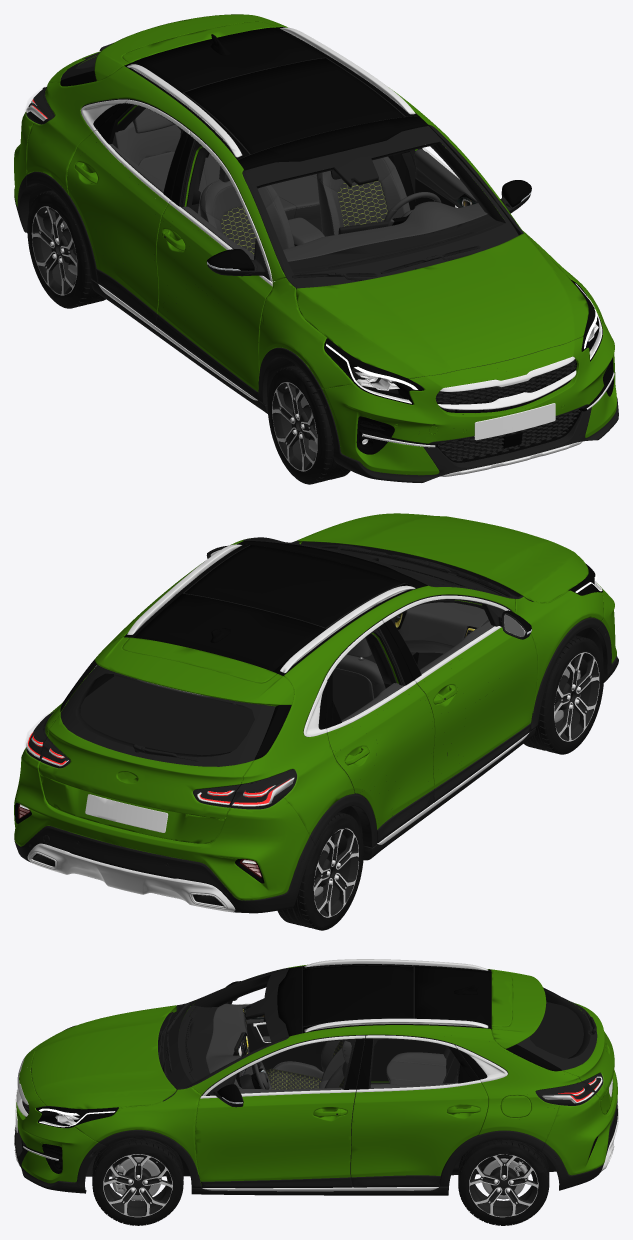
File: suv.glb
The picture shows the model from 3 angles, top to bottom: view 1: azimuth 30°, elevation 25°; view 2: azimuth 150°, elevation 25°; view 3: azimuth 270°, elevation 25°; orthographic projection. The views are drawn at different scales.
Visible parts, largest first — view 1: body, carPaint_doors.022, carPaint_doors.005, carPaint_doors.015, carPaint_doors.020, carPaint_doors.017, carPaint_doors.011, carPaint_doors.036, wheel.Ft.R, carPaint_doors, wheel.Bk.R, carPaint_doors.016 (+8 smaller); view 2: body, carPaint_doors.022, carPaint_doors.005, carPaint_doors.014, carPaint_doors.017, carPaint_doors.015, carPaint_doors.011, carPaint_doors.020, wheel.Ft.R, wheel.Bk.R, carPaint_doors.051, carPaint_doors.008 (+5 smaller); view 3: body, carPaint_doors.005, carPaint_doors.022, carPaint_doors.015, carPaint_doors.017, carPaint_doors.011, carPaint_doors.020, carPaint_doors.014, carPaint_doors.016, wheel.Ft.L, wheel.Bk.L, carPaint_doors.047 (+7 smaller).
Boxes of the visible parts, bbox=[...] form: body: bbox=[14, 14, 616, 475]; carPaint_doors.022: bbox=[124, 27, 531, 270]; carPaint_doors.005: bbox=[14, 43, 618, 482]; carPaint_doors.015: bbox=[107, 108, 487, 299]; carPaint_doors.020: bbox=[29, 55, 576, 459]; carPaint_doors.017: bbox=[80, 27, 582, 476]; carPaint_doors.011: bbox=[26, 70, 613, 462]; carPaint_doors.036: bbox=[435, 359, 580, 461]; wheel.Ft.R: bbox=[267, 365, 350, 484]; carPaint_doors: bbox=[220, 181, 387, 254]; wheel.Bk.R: bbox=[27, 190, 105, 308]; carPaint_doors.016: bbox=[96, 104, 471, 342]; body: bbox=[14, 513, 616, 900]; carPaint_doors.022: bbox=[123, 540, 531, 675]; carPaint_doors.005: bbox=[14, 537, 618, 913]; carPaint_doors.014: bbox=[75, 540, 391, 757]; carPaint_doors.017: bbox=[27, 544, 528, 912]; carPaint_doors.015: bbox=[114, 602, 493, 722]; carPaint_doors.011: bbox=[15, 563, 602, 883]; carPaint_doors.020: bbox=[60, 540, 603, 836]; wheel.Ft.R: bbox=[523, 635, 603, 754]; wheel.Bk.R: bbox=[277, 812, 363, 930]; carPaint_doors.051: bbox=[314, 829, 358, 916]; carPaint_doors.008: bbox=[554, 652, 599, 740]; body: bbox=[16, 964, 617, 1185]; carPaint_doors.005: bbox=[15, 965, 617, 1195]; carPaint_doors.022: bbox=[217, 964, 491, 1102]; carPaint_doors.015: bbox=[206, 1004, 460, 1093]; carPaint_doors.017: bbox=[14, 959, 618, 1191]; carPaint_doors.011: bbox=[21, 987, 603, 1173]; carPaint_doors.020: bbox=[42, 969, 597, 1176]; carPaint_doors.014: bbox=[191, 975, 590, 1058]; carPaint_doors.016: bbox=[237, 1015, 460, 1180]; wheel.Ft.L: bbox=[92, 1137, 183, 1225]; wheel.Bk.L: bbox=[458, 1139, 549, 1225]; carPaint_doors.047: bbox=[104, 1154, 171, 1216].
Size of what is drawn, in the model's own units: 2.04 by 1.51 by 4.39.
27 materials, 3 textured.
